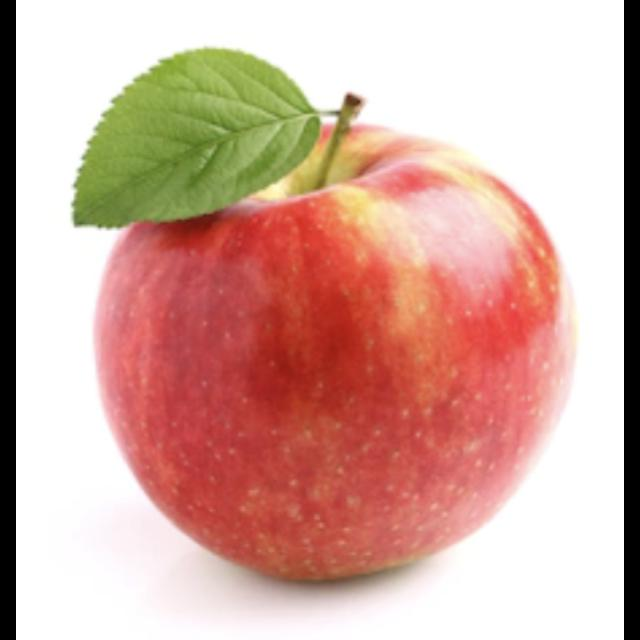Apel Segar: (89, 115, 582, 587)
